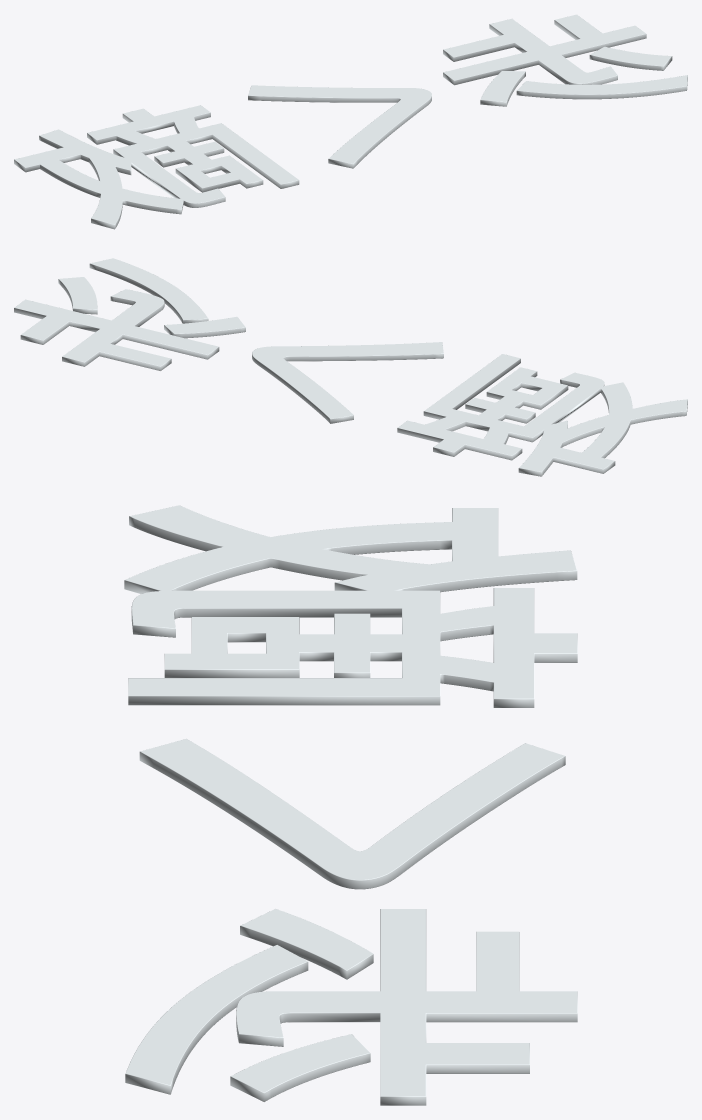
The model's file is stage2_crash_cube_name.obj.
3 views of the same model, one above another, from view 1: azimuth 30°, elevation 25°; view 2: azimuth 150°, elevation 25°; view 3: azimuth 270°, elevation 25° (orthographic). The views are drawn at different scales.
Parts seen in each view (by area): view 1: stage2_crash_cube_name; view 2: stage2_crash_cube_name; view 3: stage2_crash_cube_name.
Boxes of the visible parts, x1,y1,x2,y2 form: stage2_crash_cube_name: (14,14,687,229); stage2_crash_cube_name: (14,258,687,476); stage2_crash_cube_name: (124,505,577,1105).
Bounding box in the file's own units: 2.22 × 0.0165 × 0.72.
1 material, 1 textured.
